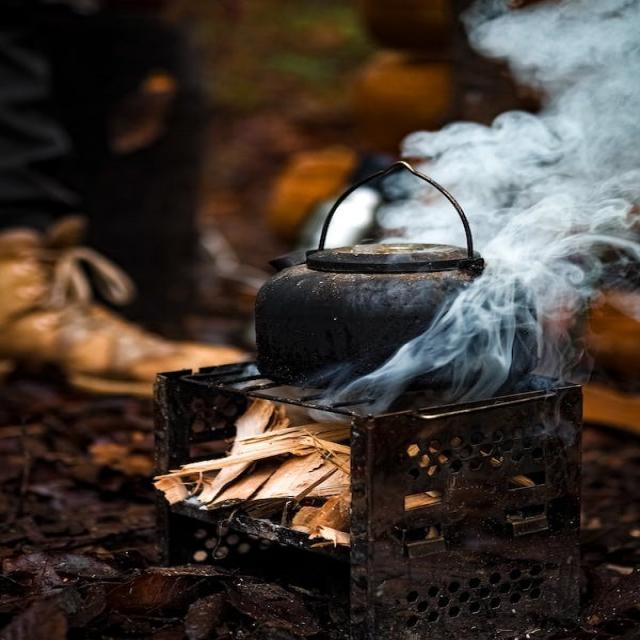Smoke: (285, 0, 640, 415)
